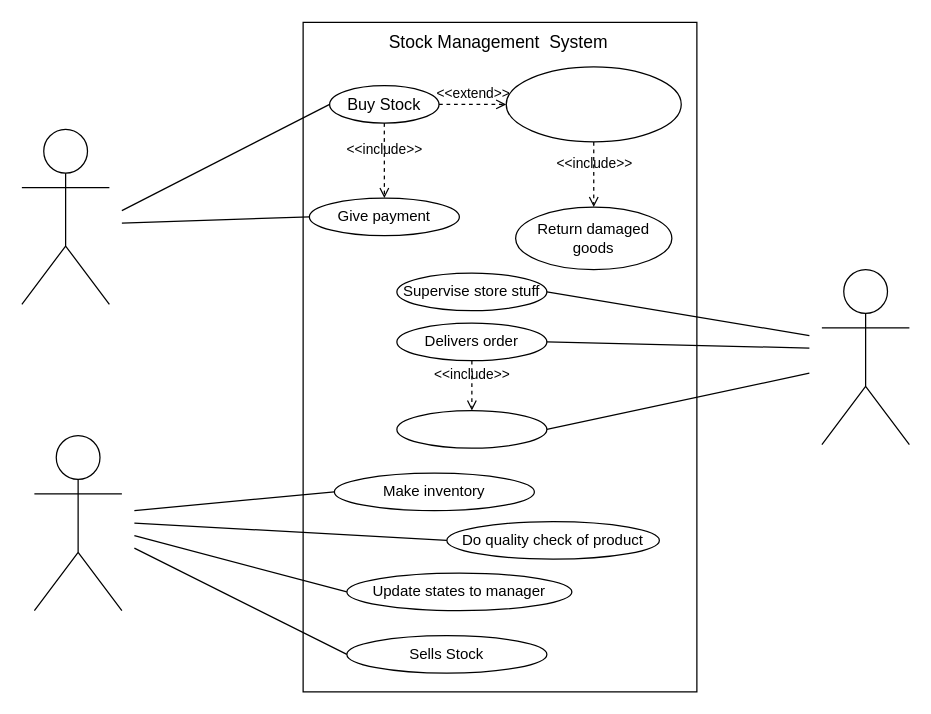
Image size: 931x714. Some labels were removed from this diagram. Here are the shapes that lost their labels. From the top down, the centre of each, then its label:
point (593, 104): Report quality issues to supplier
point (65, 216): User
point (865, 356): Supplier
point (471, 428): Recieve Payment
point (77, 522): Store stuff
